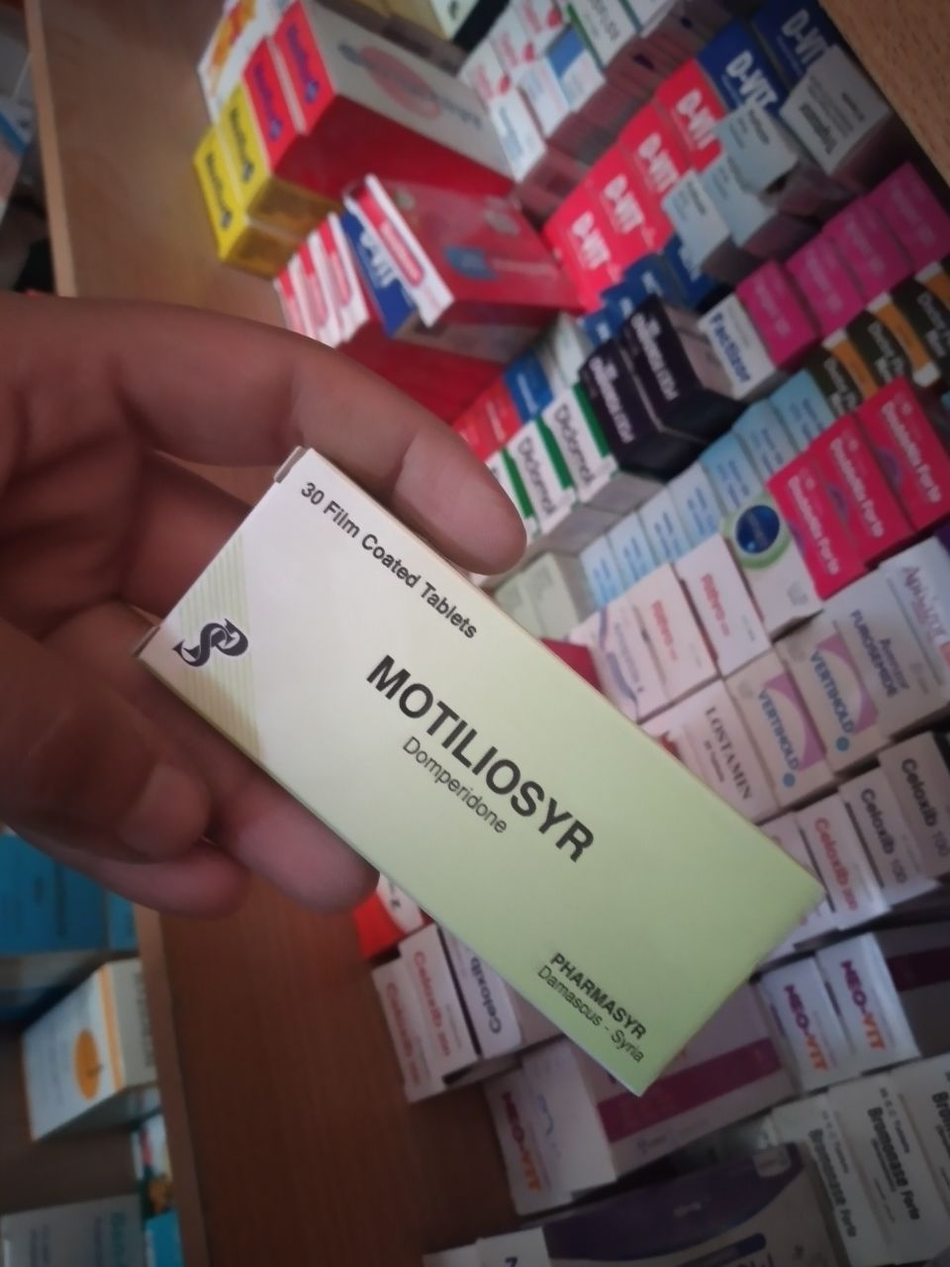Medicine: (145, 439, 821, 1125)
